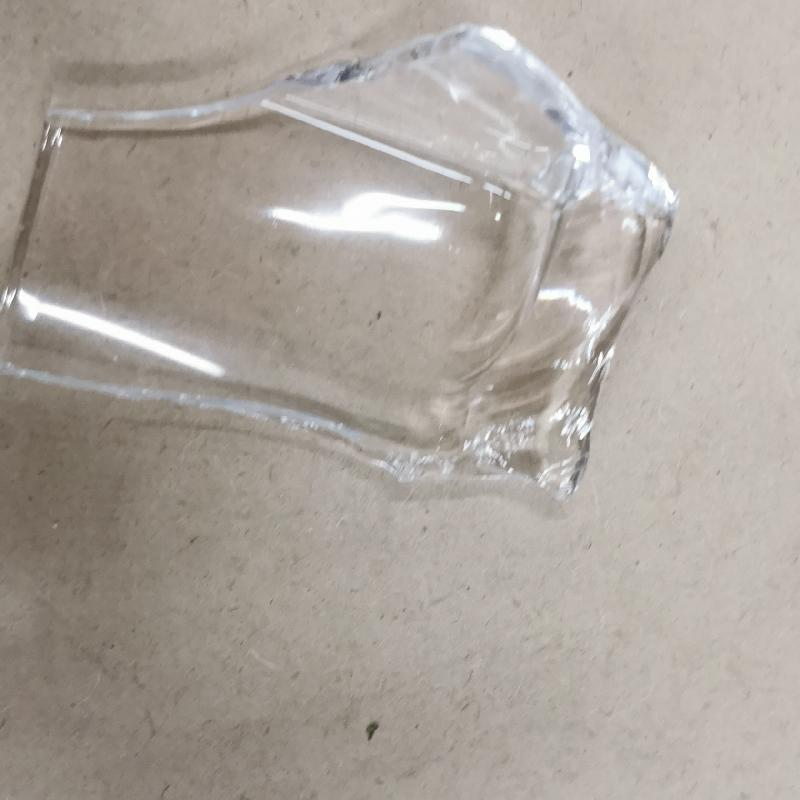glass: (0, 24, 680, 498)
